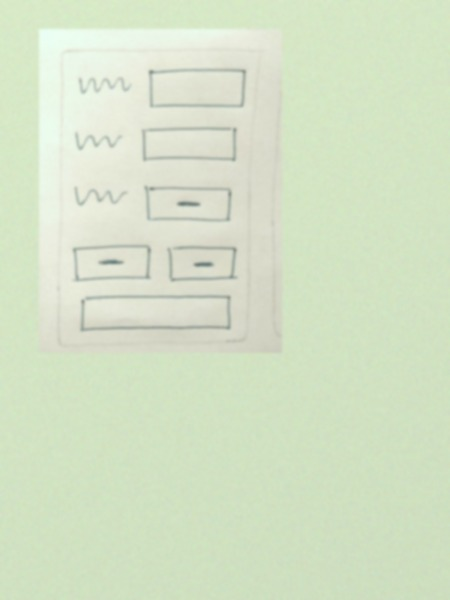button: (141, 181, 235, 225), (70, 243, 153, 284), (163, 243, 241, 284)
text: (67, 181, 134, 213), (71, 71, 137, 103), (67, 125, 133, 157)
text_input: (75, 292, 236, 336), (145, 65, 247, 112), (139, 120, 241, 167)
